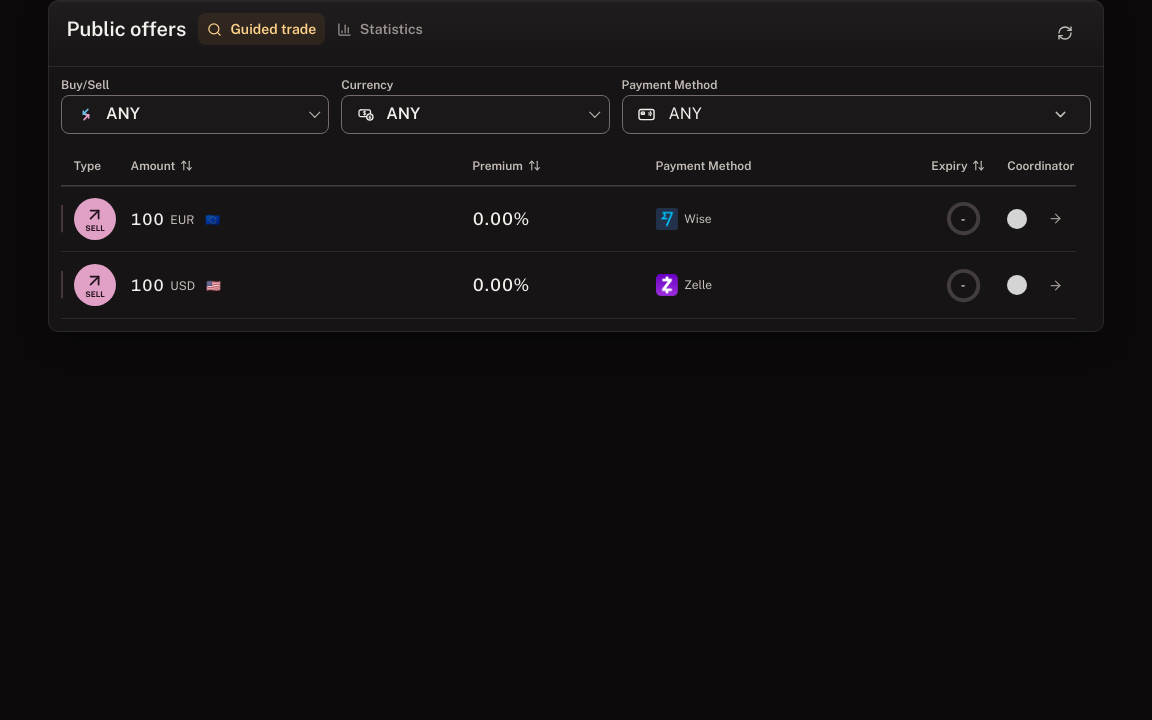
Test: OffersPage filters › offers inline robot setup when reviewing an offer without a robot
The image size is (1152, 720).
Click the button with class "offer-row" showing "SELL 100 EUR 🇪🇺 0.00% Wise -" at {"x": 95, "y": 219}, box [61, 186, 1076, 252]
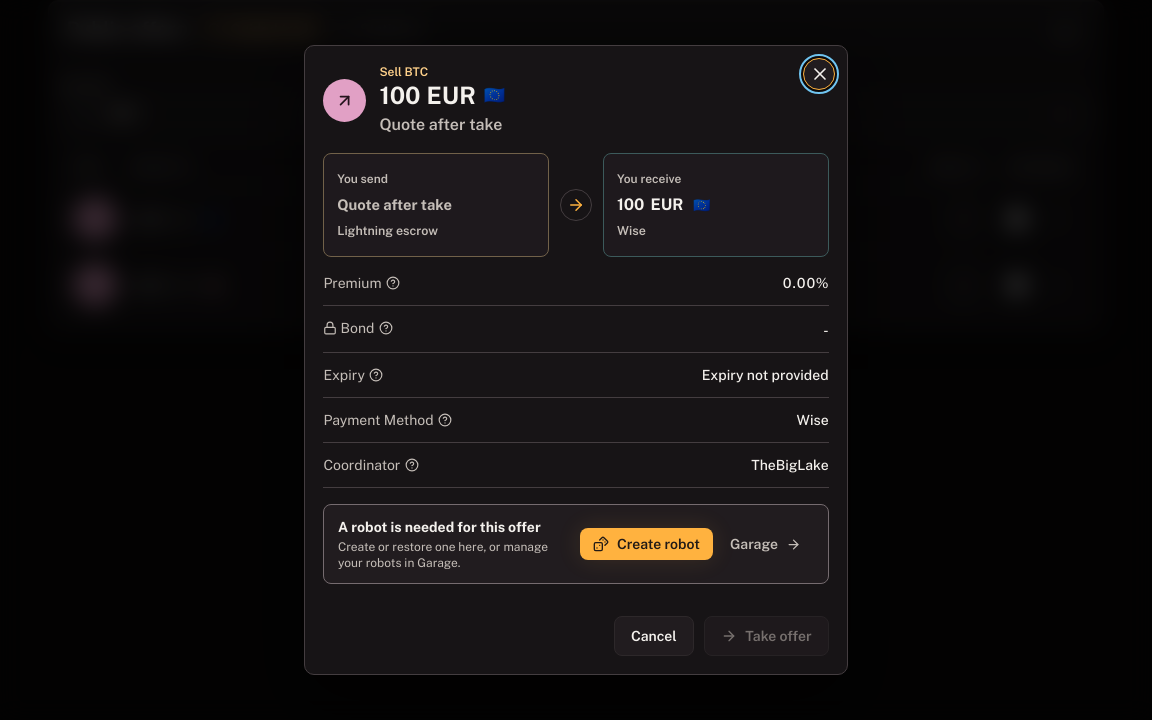
Result: the message with class "robot-required-notice" is shown at [323, 504, 829, 584]
Click the button "Create robot" at {"x": 646, "y": 544}, box [580, 528, 713, 560]
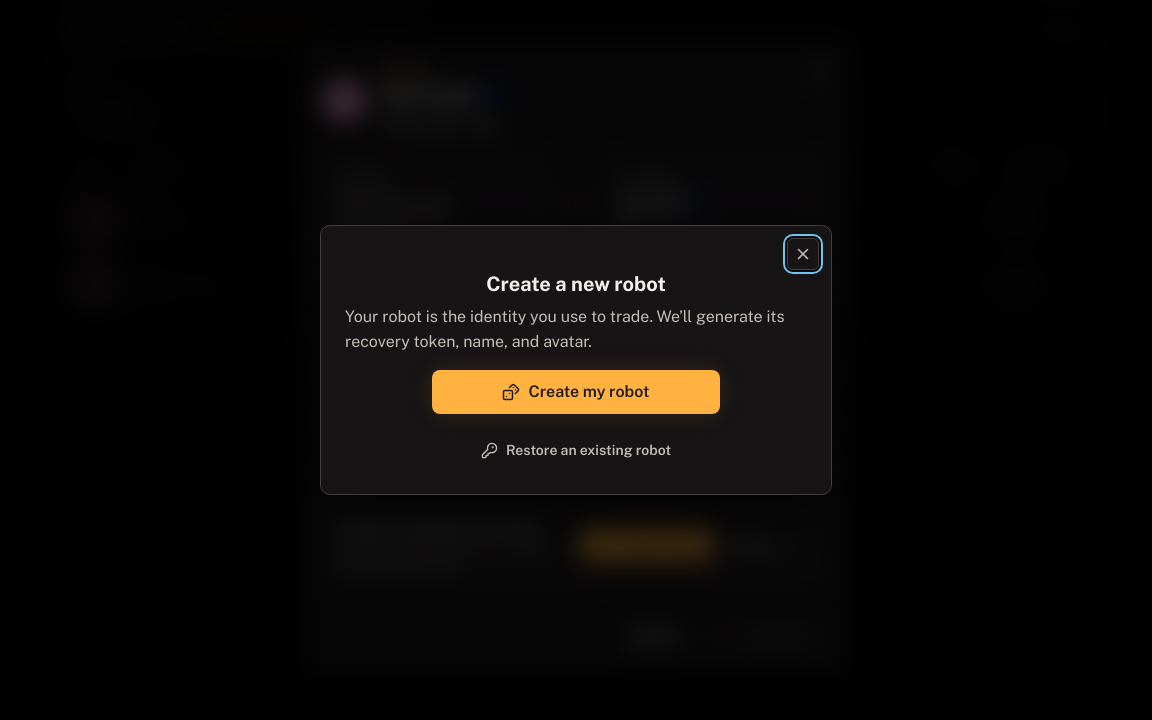
Result: the dialog named "Create or restore a robot" is shown at [320, 225, 832, 495]
